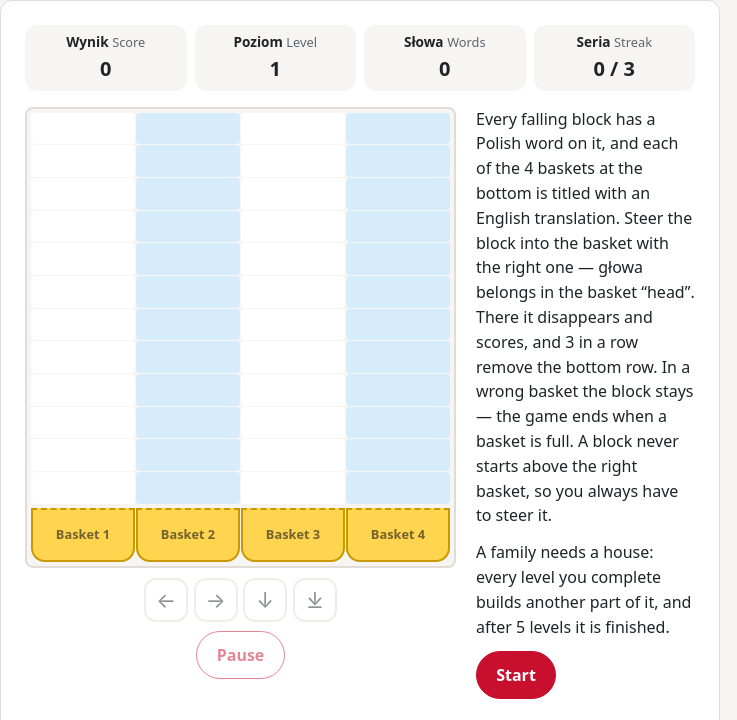
Scenario: Tetris › leaves the block with its word in a wrong basket and plays the failure sound
Click the button "Start": (516, 675) left=476, top=651, right=556, bottom=699
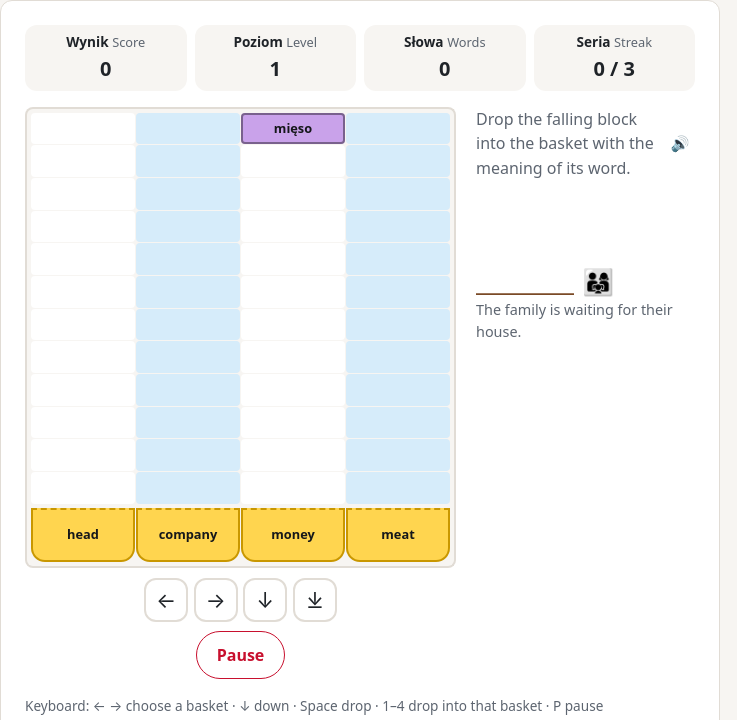
Click the button with class "tetris__basket" showing "head": (83, 535) left=31, top=508, right=135, bottom=562
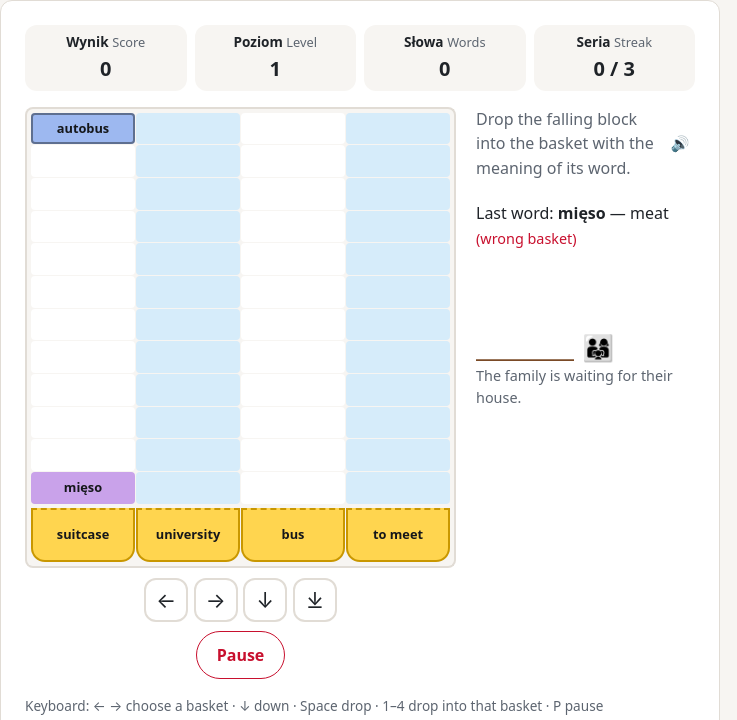
Expected: the 2nd text with class "tetris__slot" reads "mięso", left=64, top=478, right=102, bottom=496
